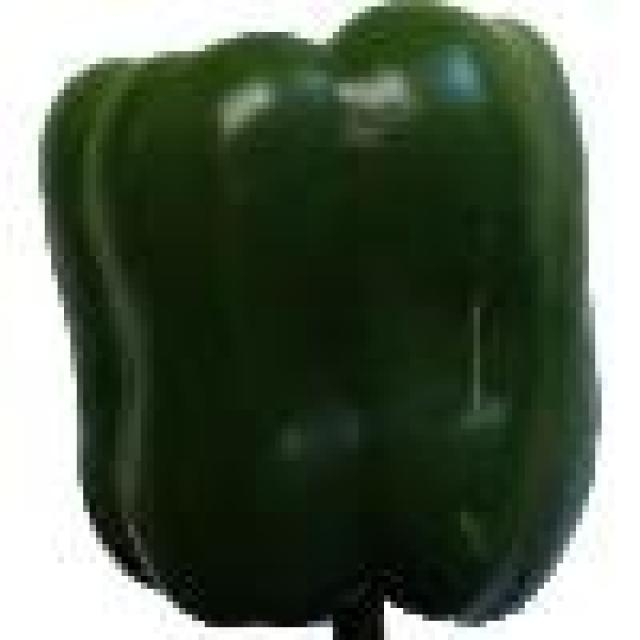Bell Pepper: (45, 6, 595, 621)
